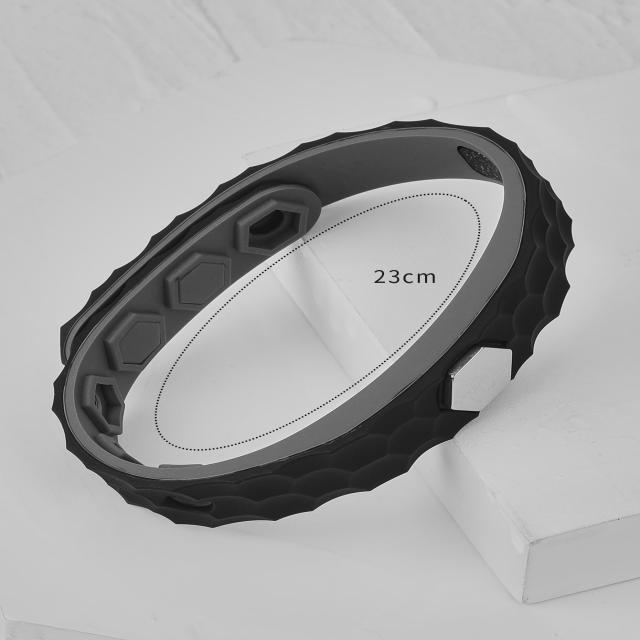bracelet: (1, 74, 630, 568)
